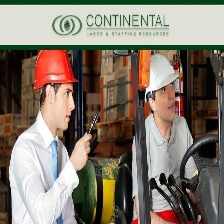helmet: (31, 49, 80, 93), (150, 54, 183, 110)
no-vest: (10, 132, 78, 223), (145, 121, 192, 218)
person: (10, 49, 81, 224), (130, 53, 192, 224)
